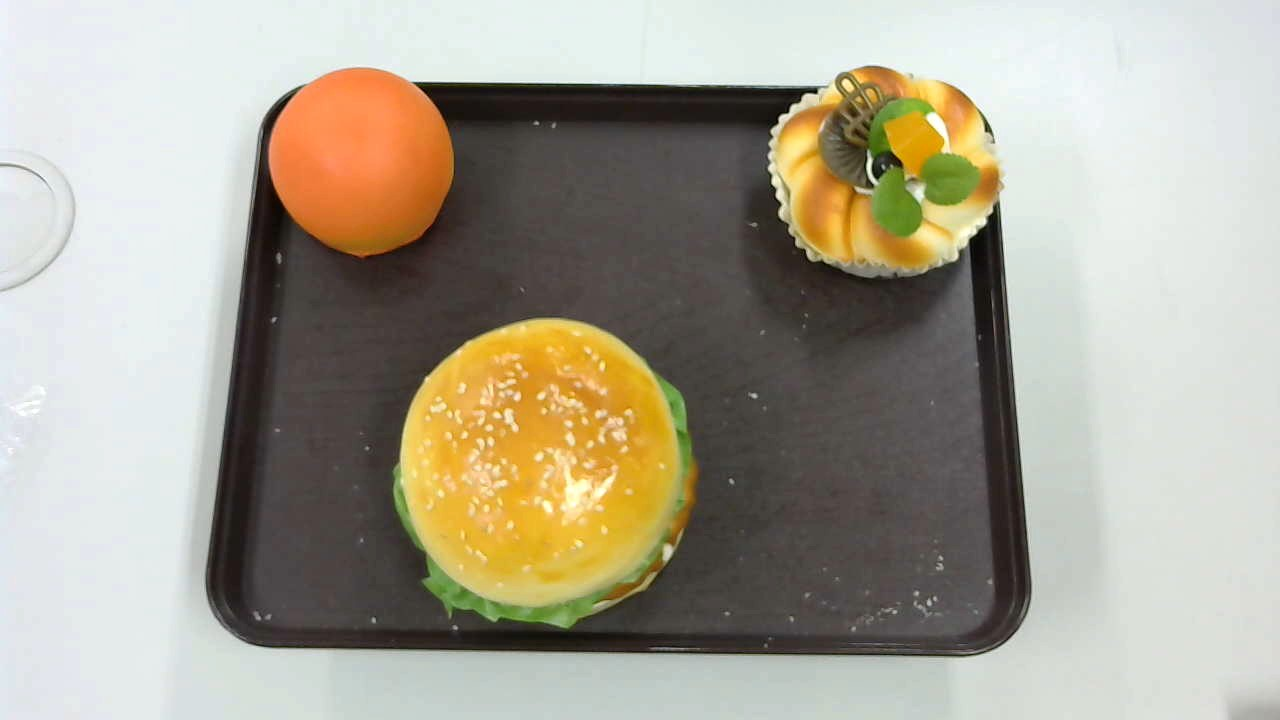bun: (269, 69, 456, 258)
fruit tart: (769, 66, 1007, 281)
hamburger: (392, 317, 699, 630)
